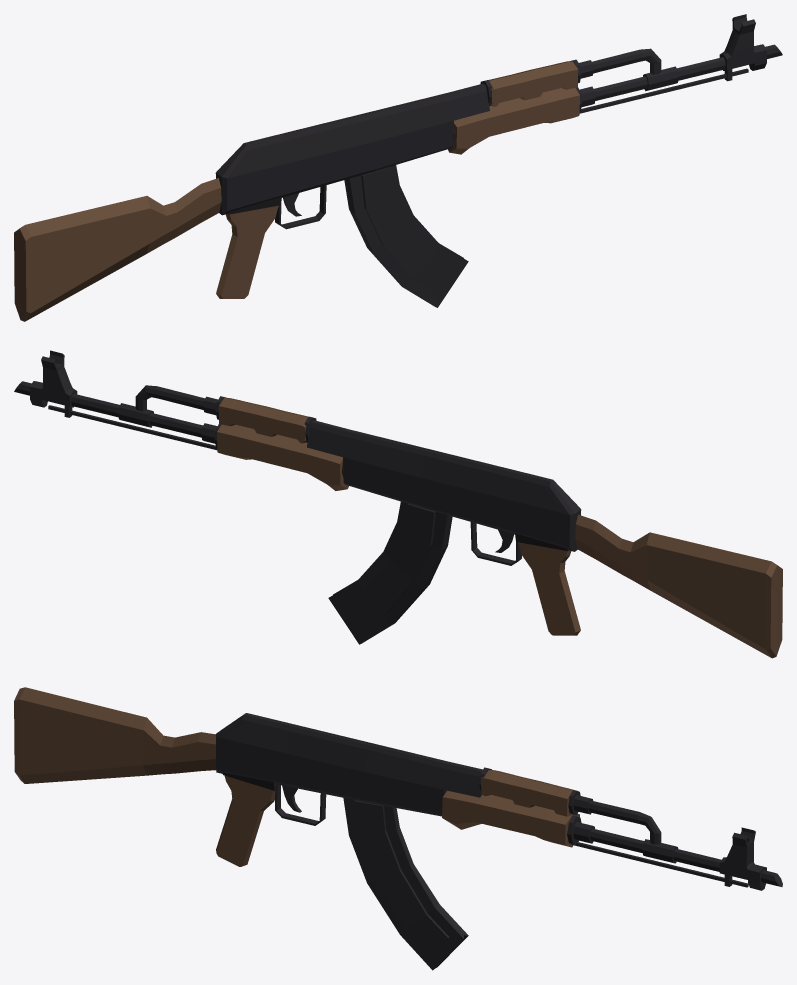
3 renders of one model, top to bottom at view 1: azimuth 30°, elevation 25°; view 2: azimuth 150°, elevation 25°; view 3: azimuth 330°, elevation 25°, orthographic.
Visible parts, largest first — view 1: mag.002; view 2: mag.002; view 3: mag.002.
Boxes of the visible parts, x1,y1,x2,y2 form: mag.002: (14,14,782,321); mag.002: (14,350,782,658); mag.002: (14,687,782,970).
Bounding box in the file's own units: 440 × 118 × 14.49.
